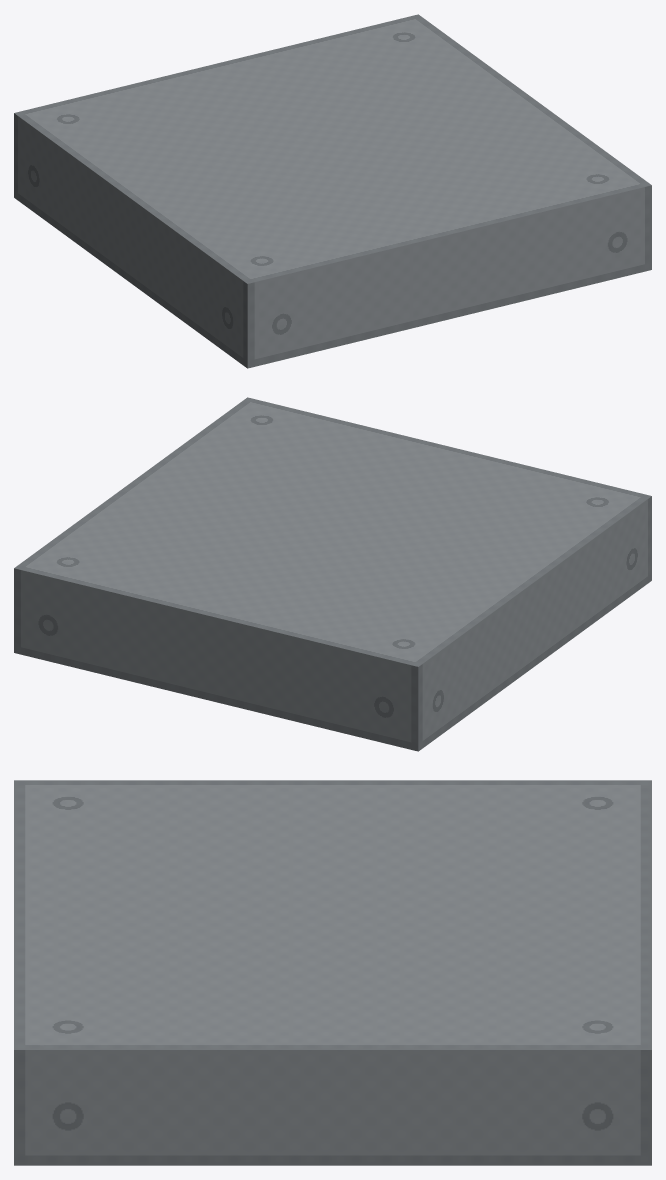
File: C01_SHI_C01_CEILING_BASIC_v004.glb
3 renders of one model, top to bottom at view 1: azimuth 30°, elevation 25°; view 2: azimuth 150°, elevation 25°; view 3: azimuth 270°, elevation 25°, orthographic. The views are drawn at different scales.
Visible parts, largest first — view 1: C01_SHI_C01_CEILING_BASIC_v002; view 2: C01_SHI_C01_CEILING_BASIC_v002; view 3: C01_SHI_C01_CEILING_BASIC_v002.
Part boxes in pixels (left/top/right/bottom): C01_SHI_C01_CEILING_BASIC_v002: left=14, top=14, right=651, bottom=368; C01_SHI_C01_CEILING_BASIC_v002: left=14, top=397, right=651, bottom=751; C01_SHI_C01_CEILING_BASIC_v002: left=14, top=780, right=651, bottom=1165.
Bounding box in the file's own units: 1 × 0.2 × 1.
2 materials, 2 textured.
